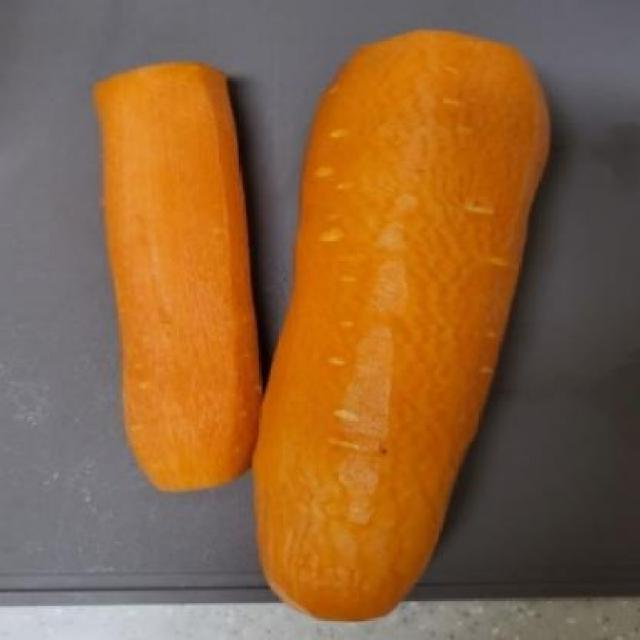carrot: (244, 19, 567, 636), (98, 53, 276, 504)
